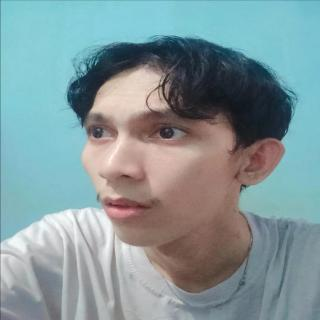Takut: (79, 52, 253, 263)
